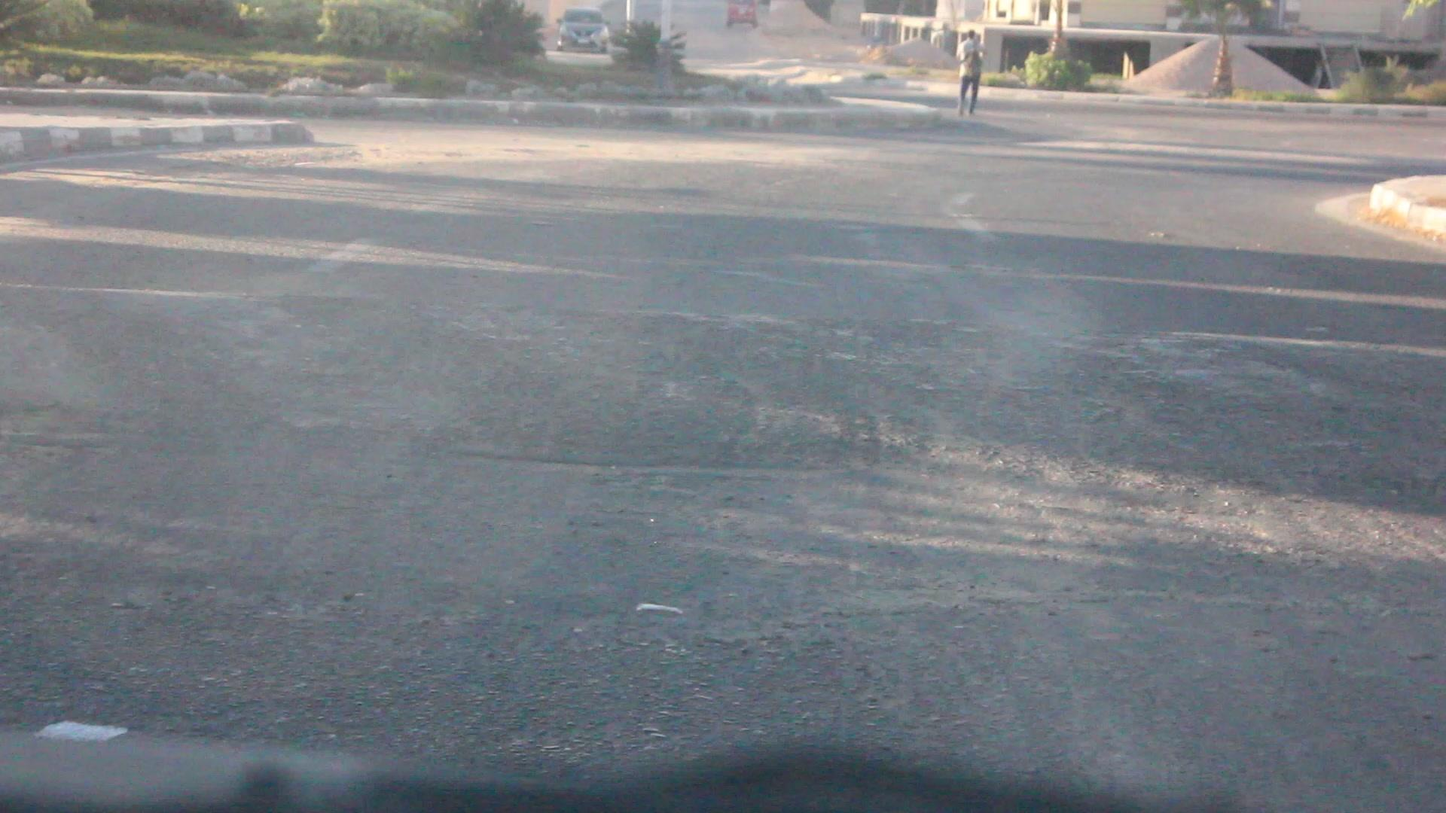Bump: (23, 299, 1446, 519)
